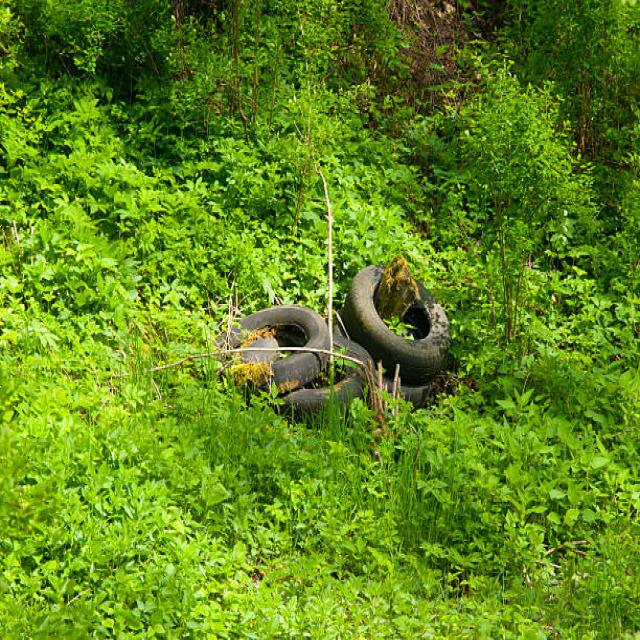tire: (341, 260, 451, 384), (223, 304, 330, 395), (276, 372, 368, 427)
